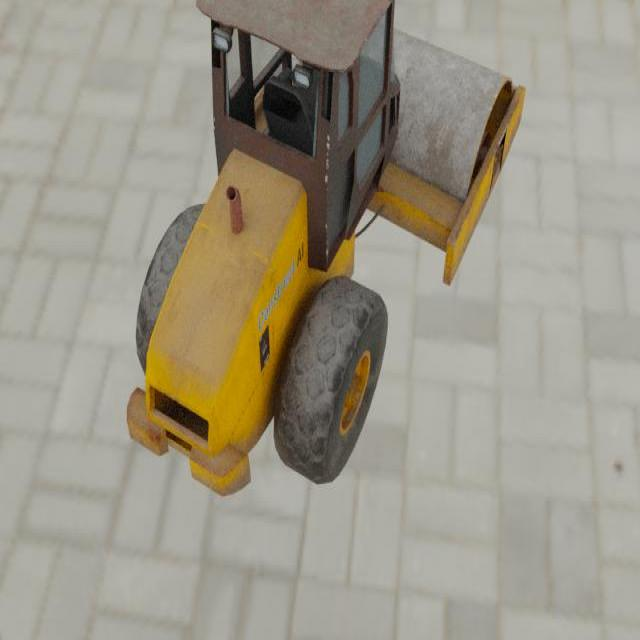Roller: (125, 0, 526, 499)
